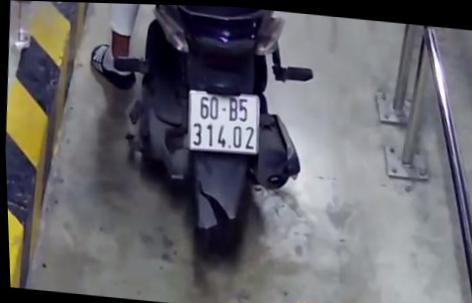LP: (182, 86, 262, 155)
